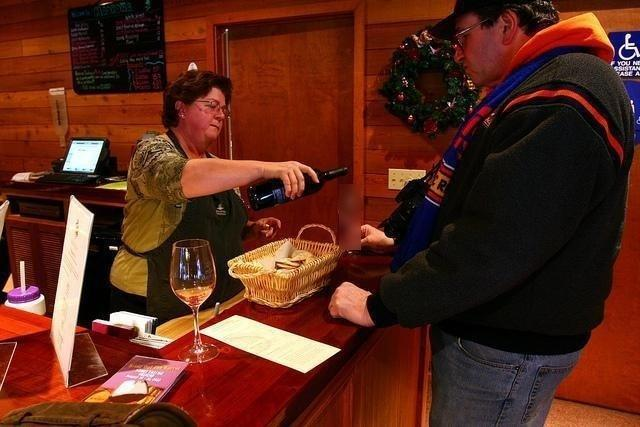bottle-glass: (247, 166, 349, 212)
glass-wine: (169, 235, 217, 360)
